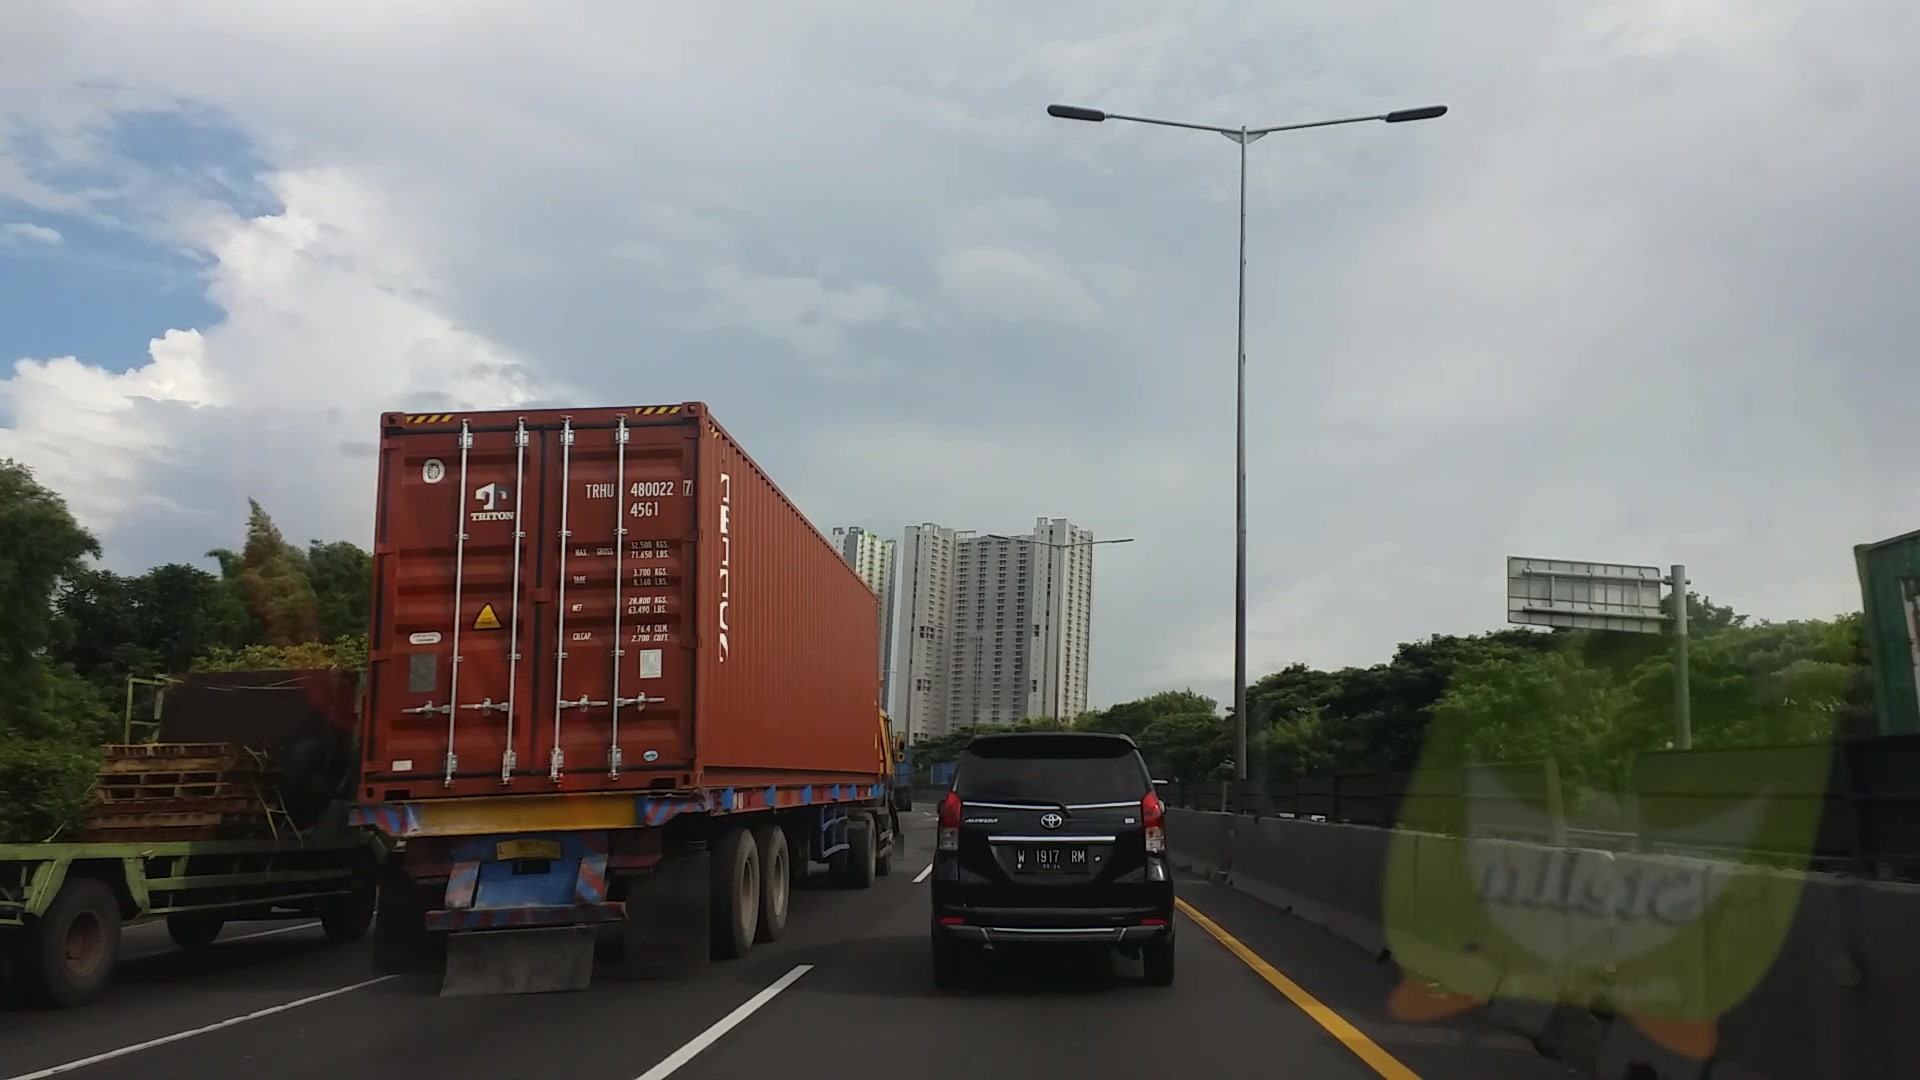plate_positive: (1015, 847, 1089, 876)
